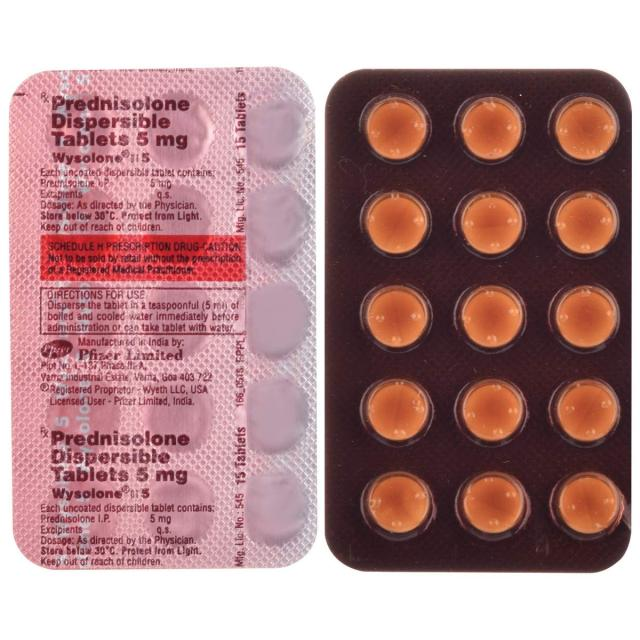Medicine-name: (47, 92, 205, 150)
